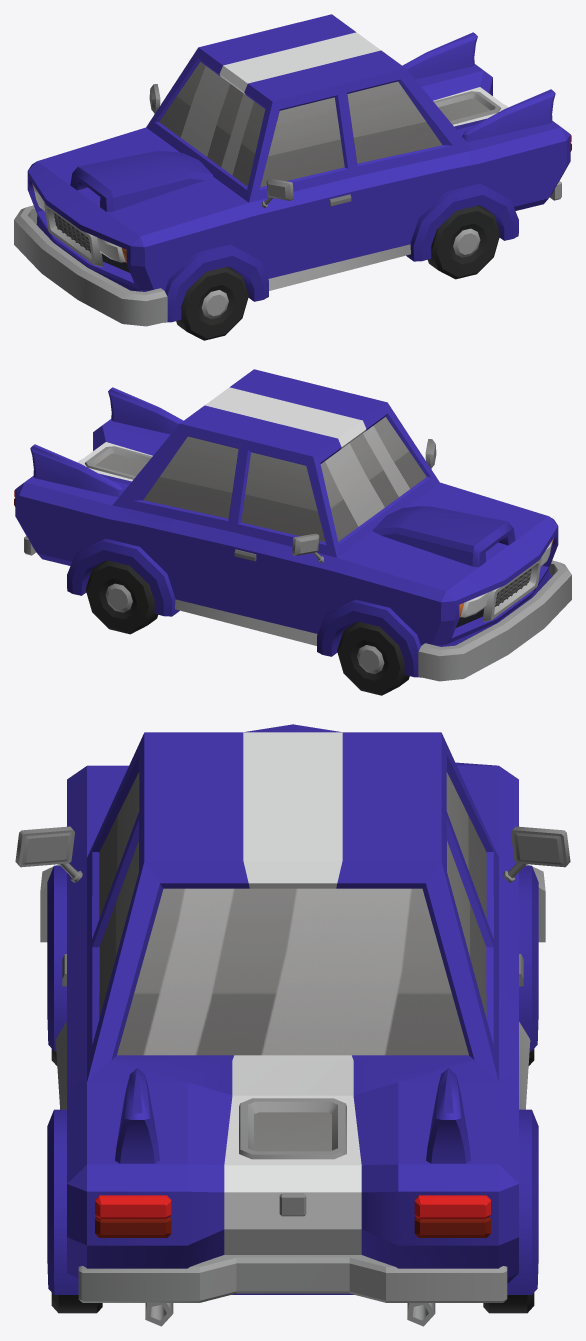
The model's file is Car_10_ZZ.gltf.
3 renders of one model, top to bottom at view 1: azimuth 30°, elevation 25°; view 2: azimuth 150°, elevation 25°; view 3: azimuth 270°, elevation 25°, orthographic. The views are drawn at different scales.
Parts seen in each view (by area): view 1: Car_10_ZZ, RL, FL; view 2: Car_10_ZZ, RR, FR; view 3: Car_10_ZZ, RL, RR.
Part boxes in pixels (left/top/right/bottom): Car_10_ZZ: left=14, top=14, right=571, bottom=326; RL: left=428, top=205, right=500, bottom=279; FL: left=176, top=266, right=248, bottom=340; Car_10_ZZ: left=14, top=369, right=571, bottom=681; RR: left=85, top=560, right=157, bottom=634; FR: left=337, top=621, right=409, bottom=695; Car_10_ZZ: left=15, top=724, right=570, bottom=1326; RL: left=51, top=1293, right=102, bottom=1313; RR: left=483, top=1293, right=534, bottom=1313.
Bounding box in the file's own units: 3.58 × 1.49 × 1.85.
Materials: 3 (3 with a texture image).
